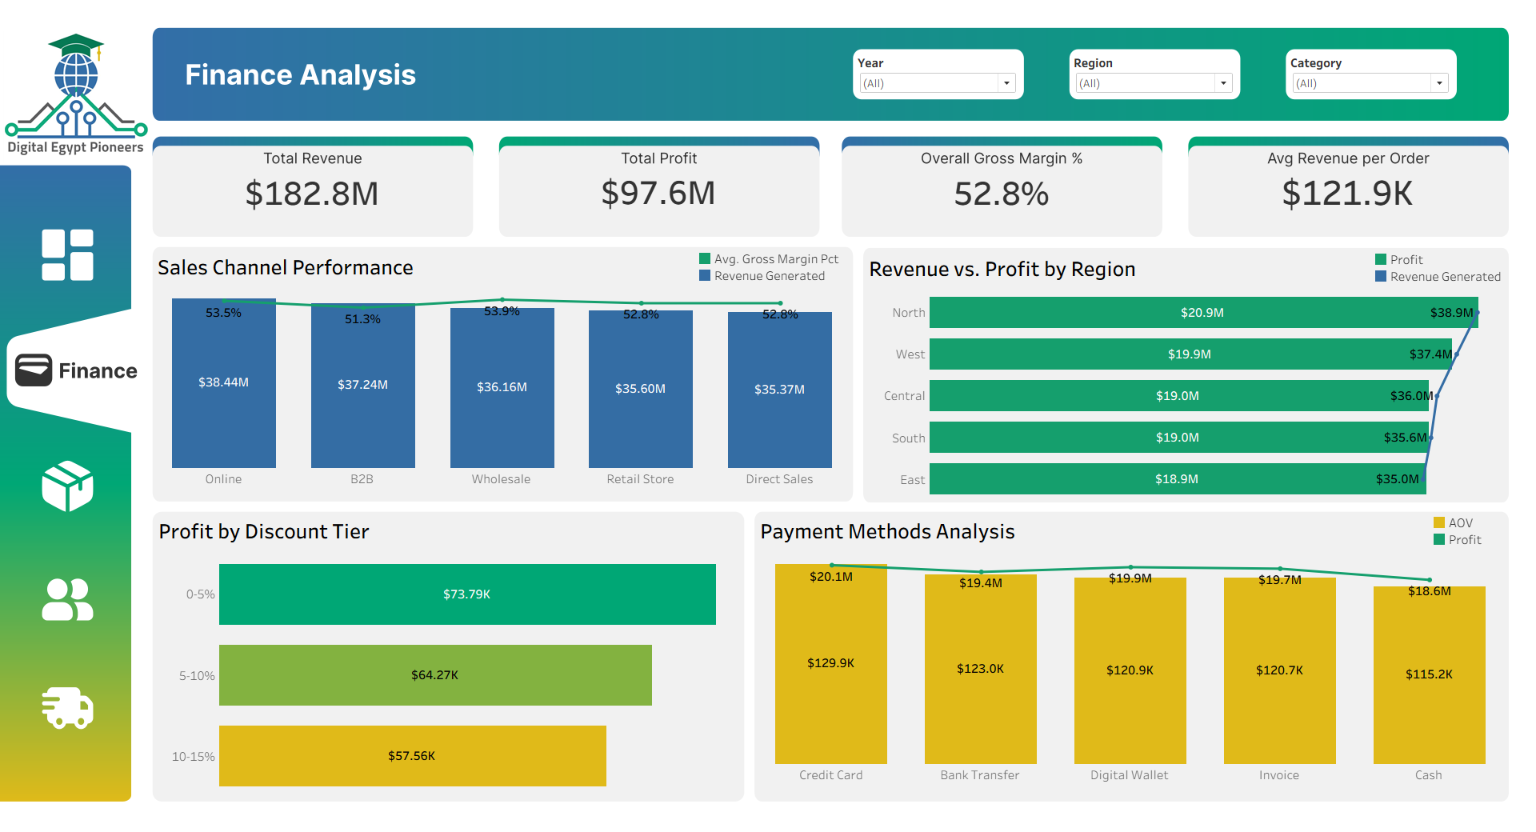

The page's visual inventory and layout, read from the dashboard file:
{"tool":"tableau","page":{"name":"Finance Analysis Dashboard","canvas":[1890,1042],"ordinal":2},"visuals":[{"type":"filter","title":"Profit by Discount Tier","param":"[federated.1a7ek0n1dui9pj16nsocf1yl686t].[yr:order_date:ok]","box":[1053,64,209,58]},{"type":"filter","title":"Sheet 20","param":"[federated.1a7ek0n1dui9pj16nsocf1yl686t].[none:region:nk]","box":[1323,64,210,57]},{"type":"filter","title":"Sheet 20","param":"[federated.1a7ek0n1dui9pj16nsocf1yl686t].[none:category:nk]","box":[1594,64,209,57]},{"type":"worksheet","title":"Total Profit","mark":"Automatic","box":[607,182,403,115.3]},{"type":"worksheet","title":"Sheet 49","mark":"Automatic","box":[1469,182,402,116.3]},{"type":"worksheet","title":"Total Revenue","mark":"Automatic","box":[176,182.9,400,114.3]},{"type":"worksheet","title":"Avg Profit Margin","mark":"Automatic","box":[1037,182.9,401,114.3]},{"type":"dashboard-object","box":[7,244,142,137]},{"type":"legend","title":"Sheet 20","param":"[federated.1a7ek0n1dui9pj16nsocf1yl686t].[:Measure Names]","box":[856,291.3,183,63.6]},{"type":"legend","title":"Sheet 59","param":"[federated.1a7ek0n1dui9pj16nsocf1yl686t].[:Measure Names]","box":[1701,292.3,166,63.6]},{"type":"worksheet","title":"Sheet 20","mark":"Automatic","rows":["revenue_generated","gross_margin_pct"],"cols":["sales_channel"],"box":[178,312.2,869,313.2]},{"type":"worksheet","title":"Sheet 59","mark":"Line","rows":["region"],"cols":["profit","revenue_generated"],"box":[1067,314.2,800,311.2]},{"type":"dashboard-object","box":[9,549,140,124]},{"type":"worksheet","title":"Profit by Discount Tier","mark":"Automatic","rows":["Calculation_0370552273190912"],"cols":["profit"],"box":[179,642.3,732,354]},{"type":"worksheet","title":"Sheet 21","mark":"Line","rows":["Calculation_2167205223694342","profit"],"cols":["payment_method"],"box":[931,642.3,935,353]},{"type":"dashboard-object","box":[2,692,146,125]},{"type":"dashboard-object","box":[1,822,144,138]}]}

Visuals, with their boxes in screenshot pixels (x1, y1, x2, y2), scaled from the page's 1890x1042 canvas onto the 1536x832 screenshot:
"Profit by Discount Tier" filter: <region>856, 51, 1026, 97</region>
"Sheet 20" filter: <region>1075, 51, 1246, 97</region>
"Sheet 20" filter: <region>1295, 51, 1465, 97</region>
"Total Profit" worksheet: <region>493, 145, 821, 237</region>
"Sheet 49" worksheet: <region>1194, 145, 1521, 238</region>
"Total Revenue" worksheet: <region>143, 146, 468, 237</region>
"Avg Profit Margin" worksheet: <region>843, 146, 1169, 237</region>
dashboard-object: <region>6, 195, 121, 304</region>
"Sheet 20" legend: <region>696, 233, 844, 283</region>
"Sheet 59" legend: <region>1382, 233, 1517, 284</region>
"Sheet 20" worksheet: <region>145, 249, 851, 499</region>
"Sheet 59" worksheet (Line marks): <region>867, 251, 1517, 499</region>
dashboard-object: <region>7, 438, 121, 537</region>
"Profit by Discount Tier" worksheet: <region>145, 513, 740, 796</region>
"Sheet 21" worksheet (Line marks): <region>757, 513, 1516, 795</region>
dashboard-object: <region>2, 553, 120, 652</region>
dashboard-object: <region>1, 656, 118, 767</region>
